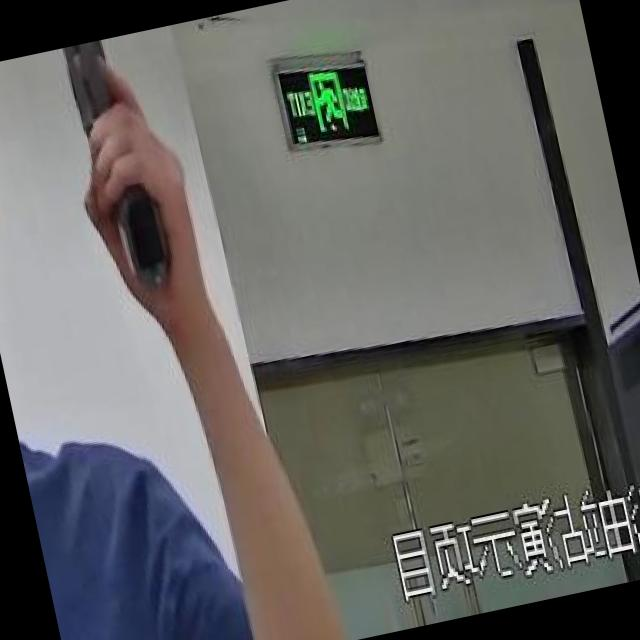Guns: (3, 31, 196, 322)
